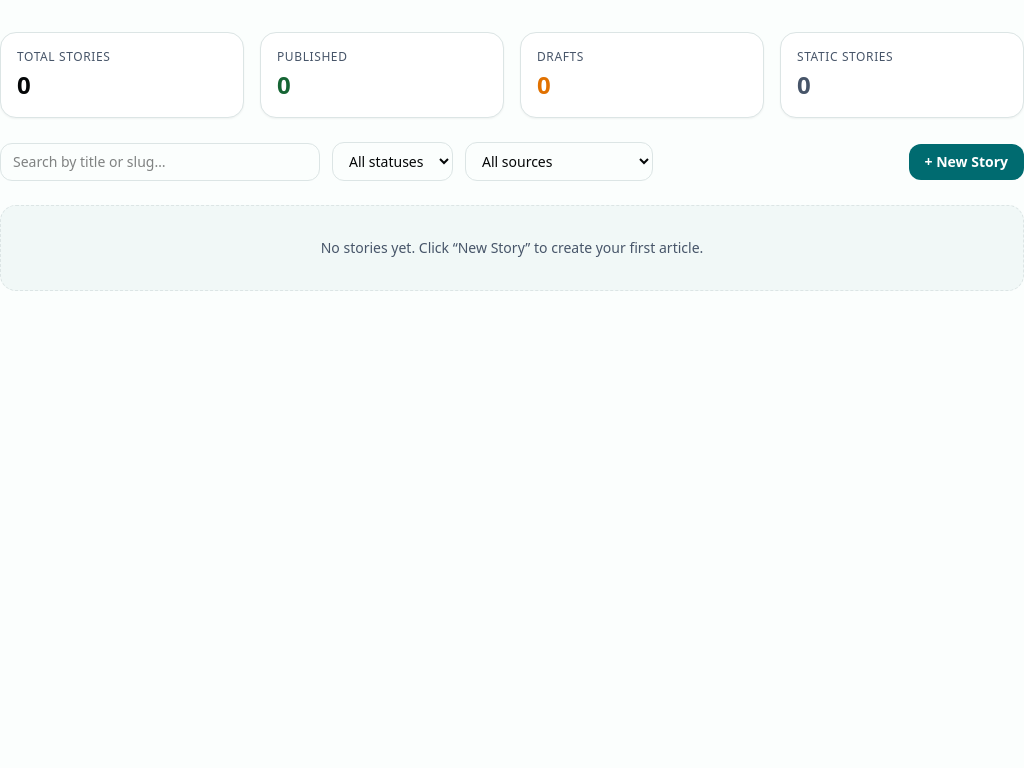
Test case: StoriesWorkspace — New Story button › opens the editor when New Story is clicked
Click the button "+ New Story" at (966, 162), box [909, 144, 1023, 180]
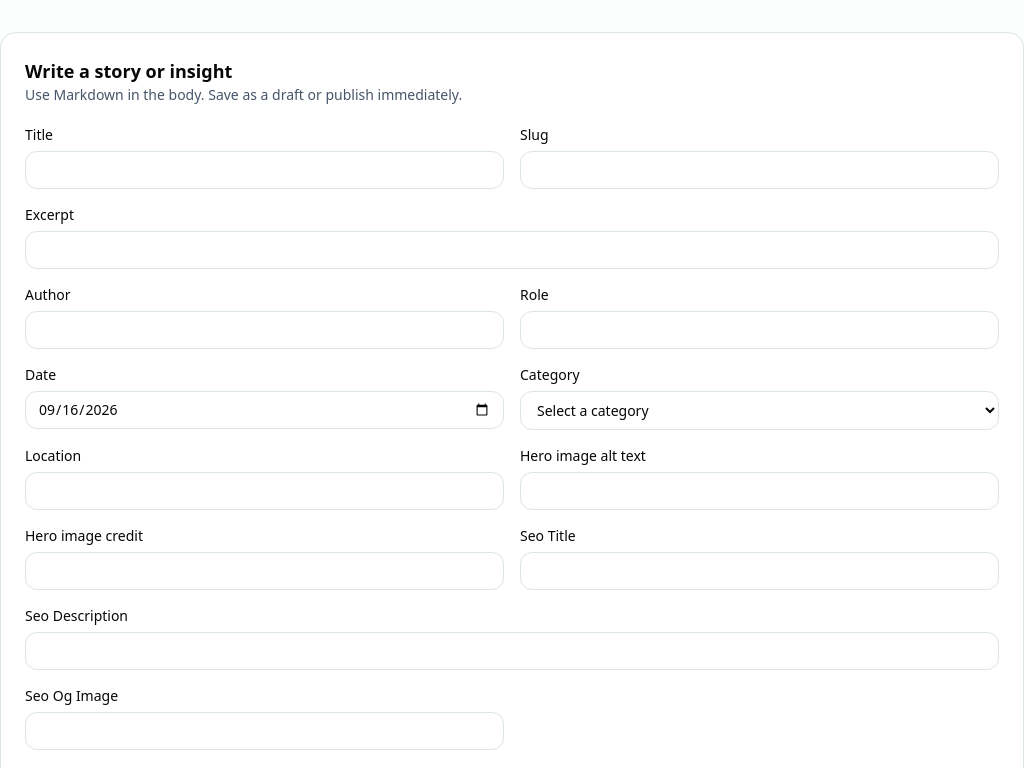
Expected: the heading "Write a story or insight" is shown, [25, 59, 232, 83]
